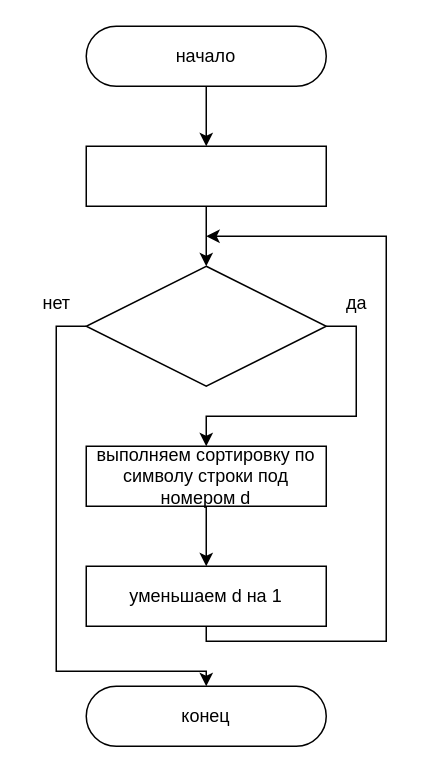
Image size: 425x773. Some labels were removed from this diagram. Here are the shapes that lost their labels. From the top down, the centre of each, then its label:
At pixel 205 175: "определяем w — длину строки, устанавливаем d = w - 1".
At pixel 205 325: "d >= 0?".
